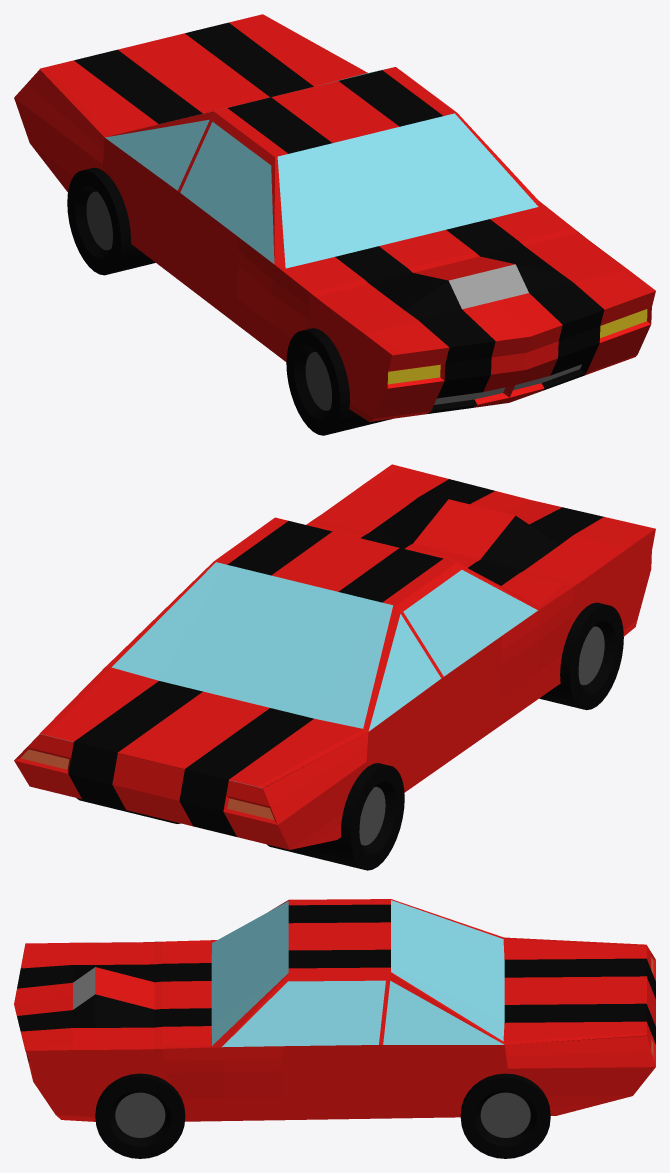
The model's file is autootje.glb.
3 renders of one model, top to bottom at view 1: azimuth 30°, elevation 25°; view 2: azimuth 150°, elevation 25°; view 3: azimuth 270°, elevation 25°, orthographic. The views are drawn at different scales.
Visible parts, largest first — view 1: Cube, Cylinder, Cylinder_1, Cylinder_2; view 2: Cube, Cylinder, Cylinder_1, Cylinder_2; view 3: Cube, Cylinder, Cylinder_1, Cylinder_2.
Part boxes in pixels (box(x1,y1,x2,y2)): Cube: box(14, 14, 655, 421); Cylinder: box(286, 328, 391, 435); Cylinder_1: box(67, 167, 155, 275); Cylinder_2: box(86, 191, 112, 250); Cube: box(14, 464, 655, 849); Cylinder: box(539, 602, 623, 710); Cylinder_1: box(76, 763, 404, 870); Cylinder_2: box(359, 786, 385, 845); Cube: box(14, 899, 655, 1121); Cylinder: box(95, 1073, 185, 1158); Cylinder_1: box(460, 1073, 550, 1158); Cylinder_2: box(480, 1092, 530, 1137).
Size of what is drawn, in the model's own units: 3.2 by 2.13 by 7.5.
